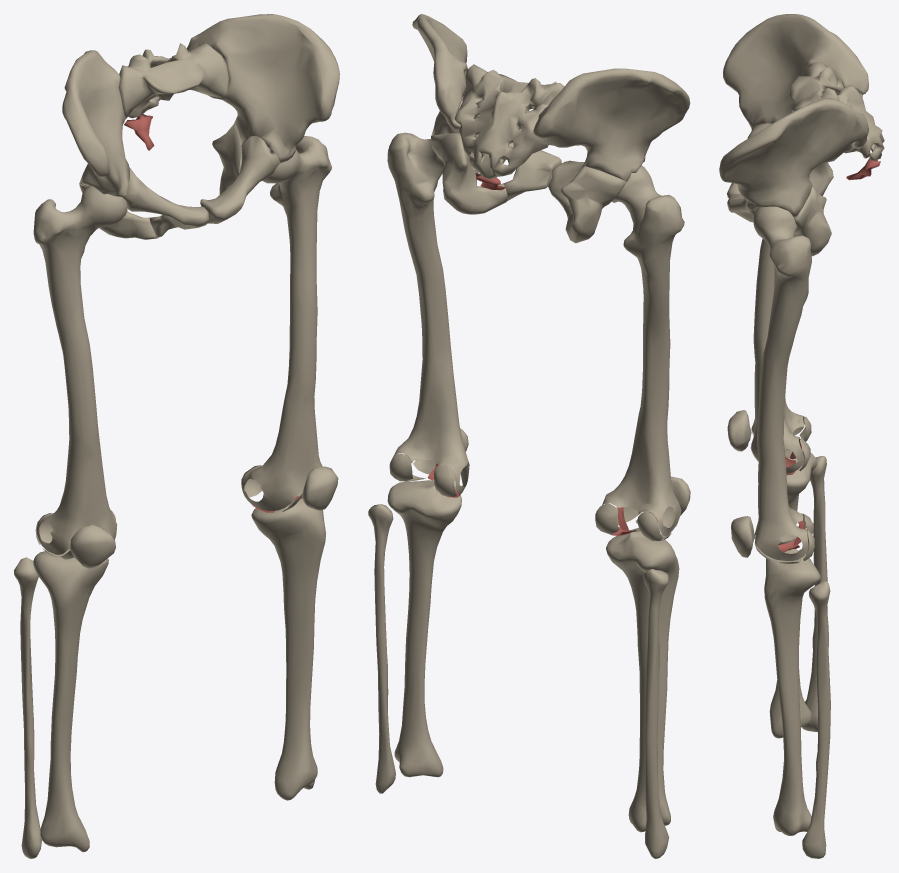
File: adult_female.skeletal.LOD4.glb
3 views of the same model, side by side, from view 1: azimuth 30°, elevation 25°; view 2: azimuth 150°, elevation 25°; view 3: azimuth 270°, elevation 25° (orthographic). The views are drawn at different scales.
Visible parts, largest first — view 1: ADULT.FEMALE.SKELETAL.FEMUR.R, ADULT.FEMALE.SKELETAL.FEMUR.L, ADULT.FEMALE.SKELETAL.ILIUM_COMPACT_BONE.L, ADULT.FEMALE.SKELETAL.TIBIA.L, ADULT.FEMALE.SKELETAL.TIBIA.R, ADULT.FEMALE.SKELETAL.ILIUM_COMPACT_BONE.R, ADULT.FEMALE.SKELETAL.SACRUM, ADULT.FEMALE.SKELETAL.FIBULA.R, ADULT.FEMALE.SKELETAL.PUBIS_COMPACT_BONE.L, ADULT.FEMALE.SKELETAL.PUBIS_COMPACT_BONE.R, ADULT.FEMALE.SKELETAL.PATELLA.R, ADULT.FEMALE.SKELETAL.PATELLA.L (+2 smaller); view 2: ADULT.FEMALE.SKELETAL.FEMUR.R, ADULT.FEMALE.SKELETAL.FEMUR.L, ADULT.FEMALE.SKELETAL.ILIUM_COMPACT_BONE.R, ADULT.FEMALE.SKELETAL.TIBIA.L, ADULT.FEMALE.SKELETAL.SACRUM, ADULT.FEMALE.SKELETAL.TIBIA.R, ADULT.FEMALE.SKELETAL.FIBULA.R, ADULT.FEMALE.SKELETAL.ILIUM_COMPACT_BONE.L, ADULT.FEMALE.SKELETAL.FIBULA.L, ADULT.FEMALE.SKELETAL.ISCHIUM_COMPACT_BONE.L, ADULT.FEMALE.SKELETAL.ISCHIUM_COMPACT_BONE.R, ADULT.FEMALE.SKELETAL.PUBIS_COMPACT_BONE.L (+1 smaller); view 3: ADULT.FEMALE.SKELETAL.FEMUR.L, ADULT.FEMALE.SKELETAL.ILIUM_COMPACT_BONE.L, ADULT.FEMALE.SKELETAL.ILIUM_COMPACT_BONE.R, ADULT.FEMALE.SKELETAL.TIBIA.L, ADULT.FEMALE.SKELETAL.FIBULA.L, ADULT.FEMALE.SKELETAL.FEMUR.R, ADULT.FEMALE.SKELETAL.SACRUM, ADULT.FEMALE.SKELETAL.FIBULA.R, ADULT.FEMALE.SKELETAL.TIBIA.R, ADULT.FEMALE.SKELETAL.ISCHIUM_COMPACT_BONE.L, ADULT.FEMALE.SKELETAL.PATELLA.R, ADULT.FEMALE.SKELETAL.PATELLA.L (+2 smaller).
Part boxes in pixels (bbox=[...]): ADULT.FEMALE.SKELETAL.FEMUR.R: bbox=[33, 185, 127, 554]; ADULT.FEMALE.SKELETAL.FEMUR.L: bbox=[241, 136, 331, 511]; ADULT.FEMALE.SKELETAL.ILIUM_COMPACT_BONE.L: bbox=[186, 14, 339, 163]; ADULT.FEMALE.SKELETAL.TIBIA.L: bbox=[251, 494, 325, 800]; ADULT.FEMALE.SKELETAL.TIBIA.R: bbox=[33, 551, 108, 852]; ADULT.FEMALE.SKELETAL.ILIUM_COMPACT_BONE.R: bbox=[62, 50, 129, 197]; ADULT.FEMALE.SKELETAL.SACRUM: bbox=[119, 43, 228, 119]; ADULT.FEMALE.SKELETAL.FIBULA.R: bbox=[14, 557, 41, 858]; ADULT.FEMALE.SKELETAL.PUBIS_COMPACT_BONE.L: bbox=[200, 136, 280, 223]; ADULT.FEMALE.SKELETAL.PUBIS_COMPACT_BONE.R: bbox=[123, 167, 209, 237]; ADULT.FEMALE.SKELETAL.PATELLA.R: bbox=[70, 524, 115, 568]; ADULT.FEMALE.SKELETAL.PATELLA.L: bbox=[301, 466, 338, 510]; ADULT.FEMALE.SKELETAL.FEMUR.R: bbox=[599, 165, 684, 536]; ADULT.FEMALE.SKELETAL.FEMUR.L: bbox=[387, 132, 469, 494]; ADULT.FEMALE.SKELETAL.ILIUM_COMPACT_BONE.R: bbox=[533, 68, 690, 181]; ADULT.FEMALE.SKELETAL.TIBIA.L: bbox=[387, 480, 461, 777]; ADULT.FEMALE.SKELETAL.SACRUM: bbox=[455, 64, 564, 179]; ADULT.FEMALE.SKELETAL.TIBIA.R: bbox=[606, 528, 679, 832]; ADULT.FEMALE.SKELETAL.FIBULA.R: bbox=[643, 569, 669, 858]; ADULT.FEMALE.SKELETAL.ILIUM_COMPACT_BONE.L: bbox=[412, 14, 477, 135]; ADULT.FEMALE.SKELETAL.FIBULA.L: bbox=[368, 504, 395, 793]; ADULT.FEMALE.SKELETAL.ISCHIUM_COMPACT_BONE.L: bbox=[430, 133, 507, 214]; ADULT.FEMALE.SKELETAL.ISCHIUM_COMPACT_BONE.R: bbox=[560, 166, 626, 243]; ADULT.FEMALE.SKELETAL.PUBIS_COMPACT_BONE.L: bbox=[474, 135, 561, 201]; ADULT.FEMALE.SKELETAL.FEMUR.L: bbox=[753, 206, 811, 561]; ADULT.FEMALE.SKELETAL.ILIUM_COMPACT_BONE.L: bbox=[719, 98, 868, 217]; ADULT.FEMALE.SKELETAL.ILIUM_COMPACT_BONE.R: bbox=[723, 14, 868, 130]; ADULT.FEMALE.SKELETAL.TIBIA.L: bbox=[764, 548, 820, 835]; ADULT.FEMALE.SKELETAL.FIBULA.L: bbox=[802, 581, 830, 858]; ADULT.FEMALE.SKELETAL.FEMUR.R: bbox=[751, 238, 804, 473]; ADULT.FEMALE.SKELETAL.SACRUM: bbox=[789, 61, 884, 161]; ADULT.FEMALE.SKELETAL.FIBULA.R: bbox=[802, 456, 827, 732]; ADULT.FEMALE.SKELETAL.TIBIA.R: bbox=[769, 448, 817, 738]; ADULT.FEMALE.SKELETAL.ISCHIUM_COMPACT_BONE.L: bbox=[794, 186, 831, 256]; ADULT.FEMALE.SKELETAL.PATELLA.R: bbox=[727, 410, 751, 451]; ADULT.FEMALE.SKELETAL.PATELLA.L: bbox=[731, 516, 754, 557].
Size of the model in its own units: 0.3598 by 0.8978 by 0.1832.
